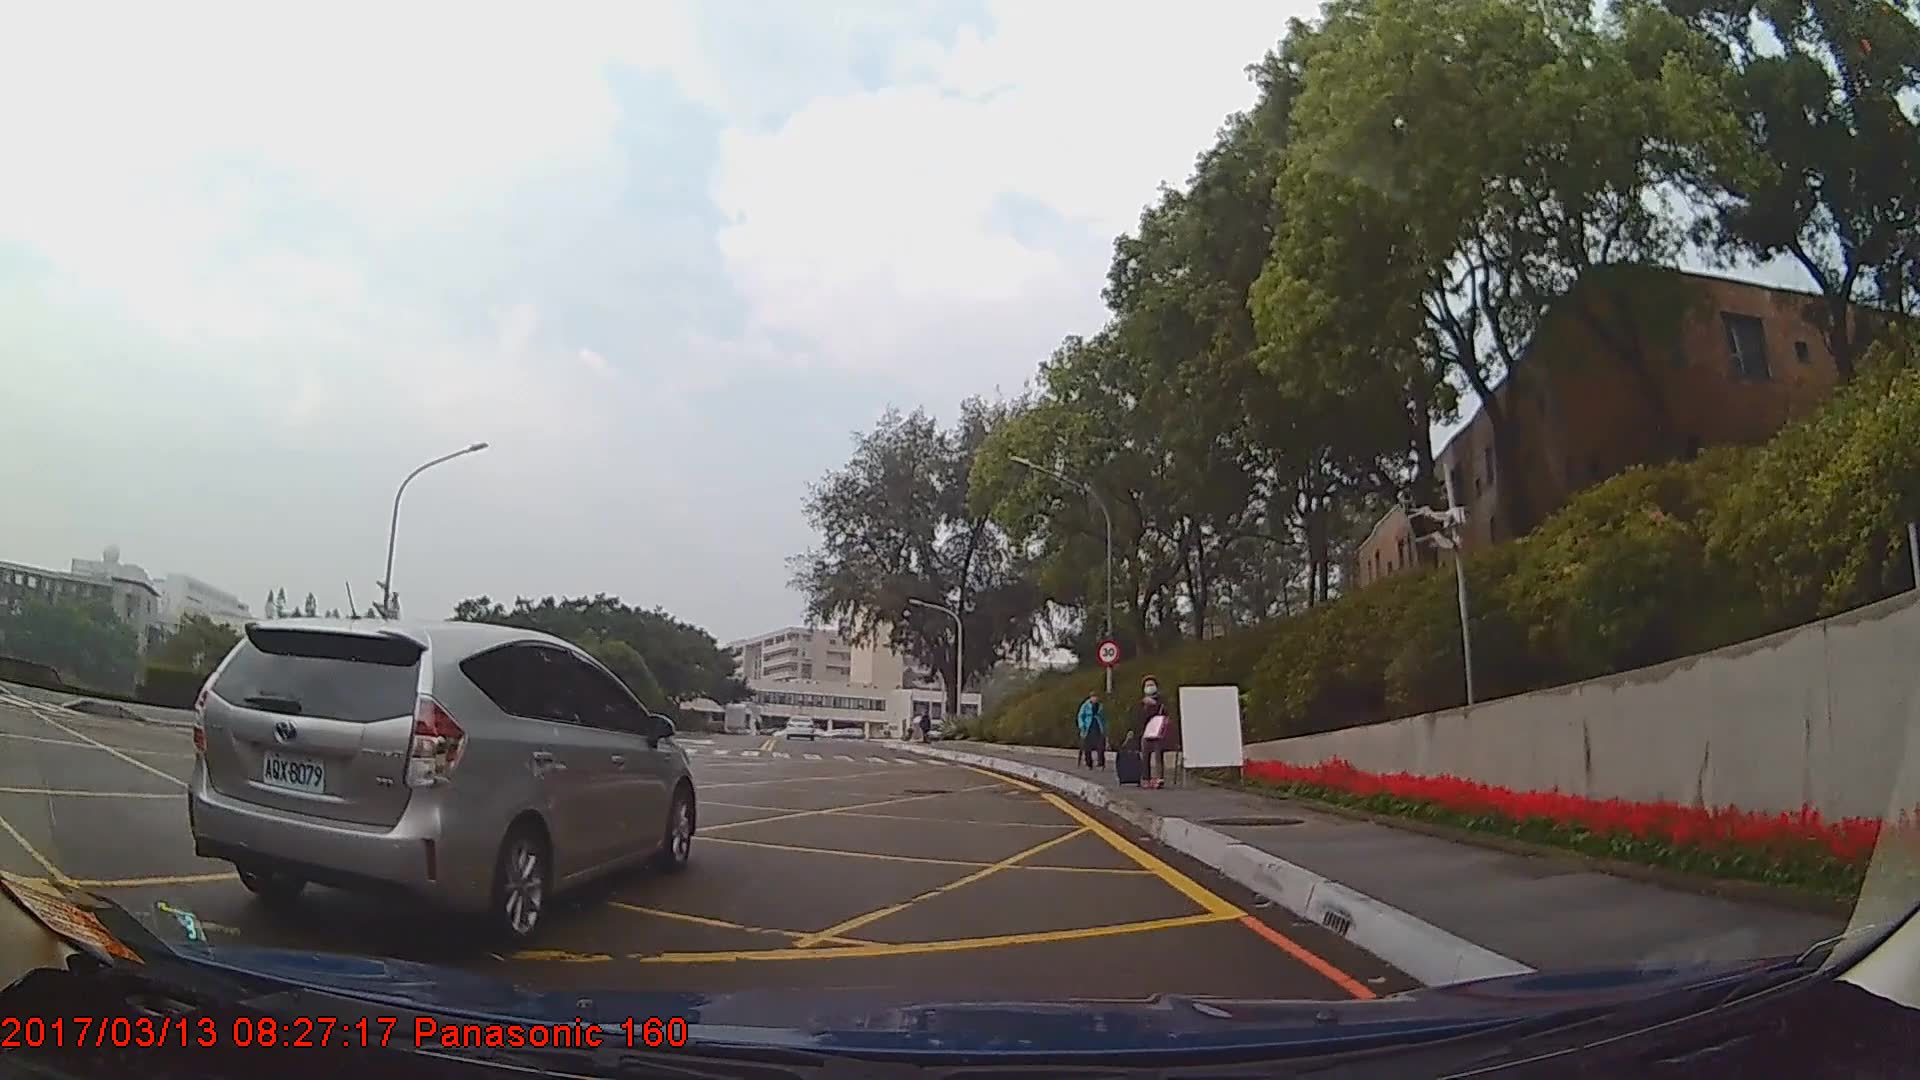pedestrian: (1123, 677, 1180, 794), (1079, 688, 1111, 771)
vehicle: (185, 614, 695, 948), (784, 711, 818, 739)
